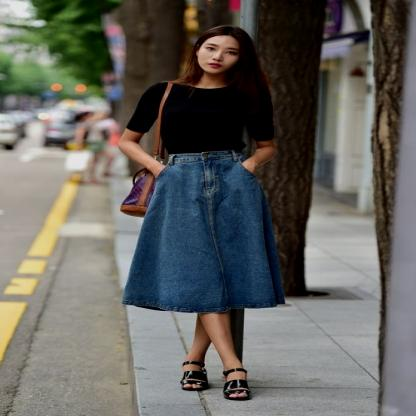dress: (123, 155, 285, 316), (126, 80, 276, 156)
